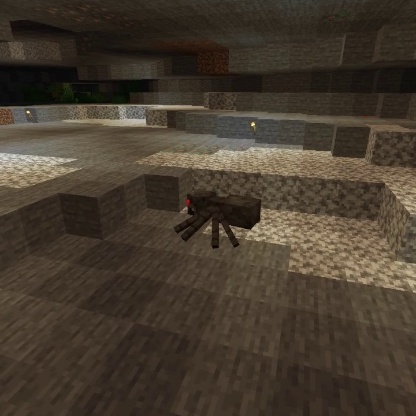spider: (170, 186, 265, 251)
